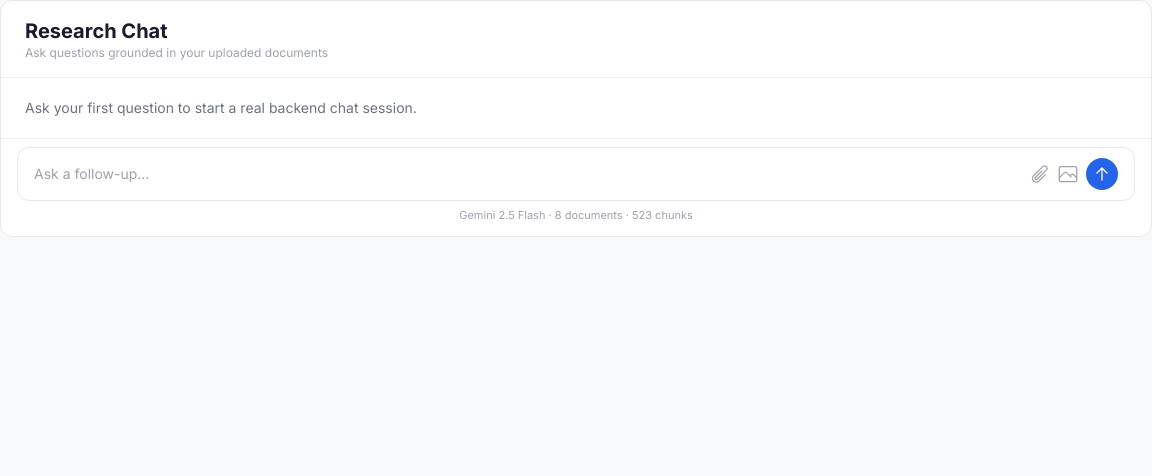
Test case: ChatArea › streams assistant tokens and source cards after submit
Type "What is 2PC?" into the field named "Chat message input" at (528, 174), box [34,164,1022,184]
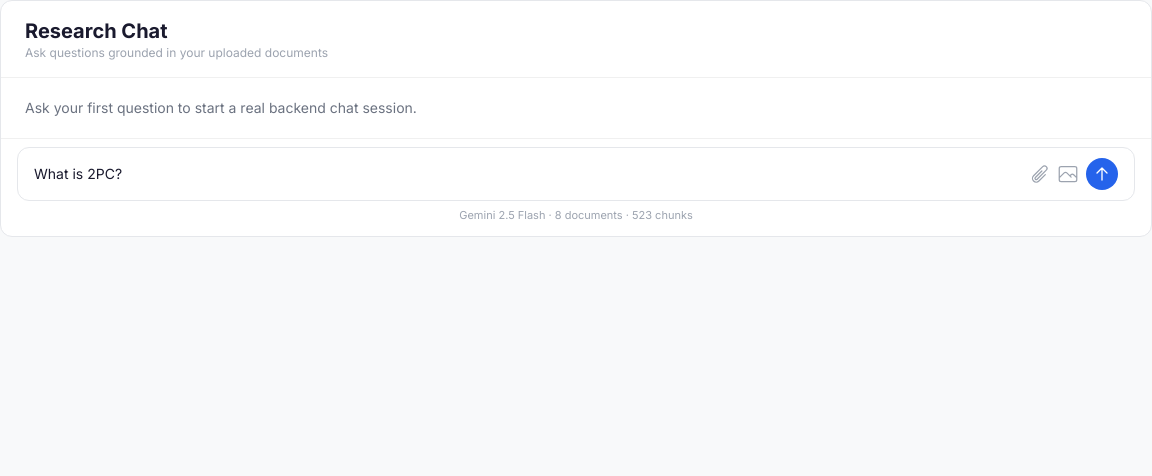
Click the button named "Send message" at (1102, 174), box [1086,158,1118,190]
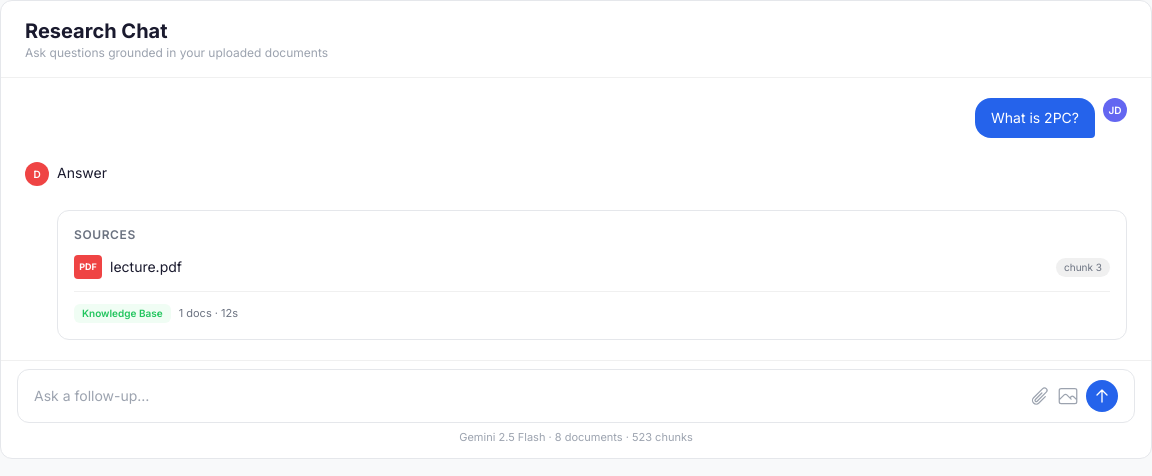
Now the text "Answer" is shown, box [57,162,107,185]
Now the text "lecture.pdf" is shown, box [110,257,182,277]
Now the text "chunk 3" is shown, box [1056,258,1110,276]
